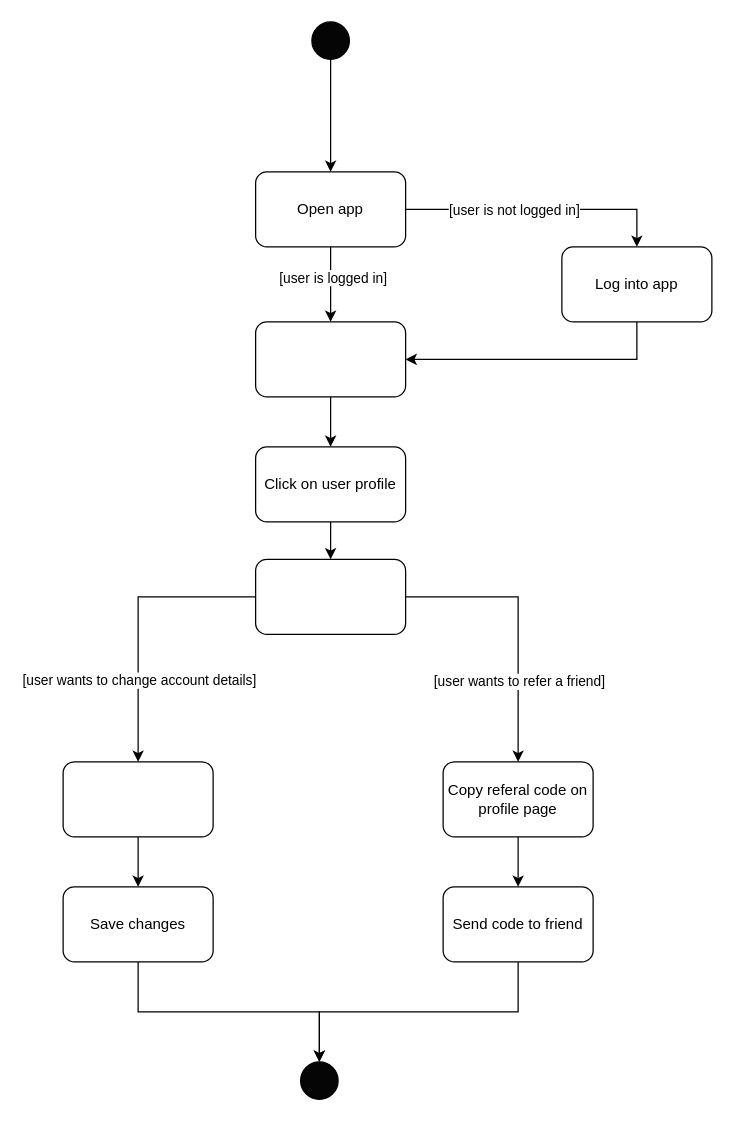
Some shapes in this 734 by 1121 pixel diagram are drawn without their labels. The centre of each missing label's shape, as x and y in pixels:
"Display home page" belongs at point 330,359.
"Display user information" belongs at point 330,596.
"Enter new details" belongs at point 137,799.
